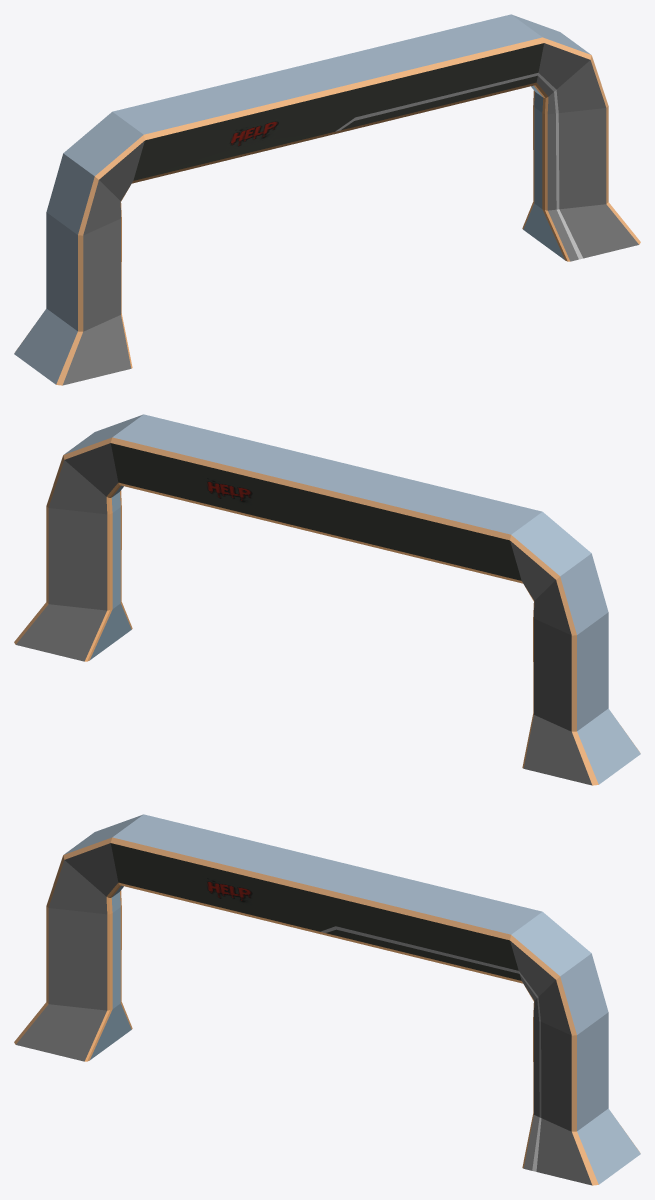
File: 0_1_Wall_5.fbx
The picture shows the model from 3 angles, top to bottom: view 1: azimuth 30°, elevation 25°; view 2: azimuth 150°, elevation 25°; view 3: azimuth 330°, elevation 25°; orthographic projection.
Visible parts, largest first — view 1: 0_1_Wall_5; view 2: 0_1_Wall_5; view 3: 0_1_Wall_5.
Boxes of the visible parts, x1,y1,x2,y2 form: 0_1_Wall_5: (14, 14, 640, 385); 0_1_Wall_5: (14, 414, 640, 785); 0_1_Wall_5: (14, 814, 640, 1185).
Size of the model in its own units: 4976 by 1818 by 690.
